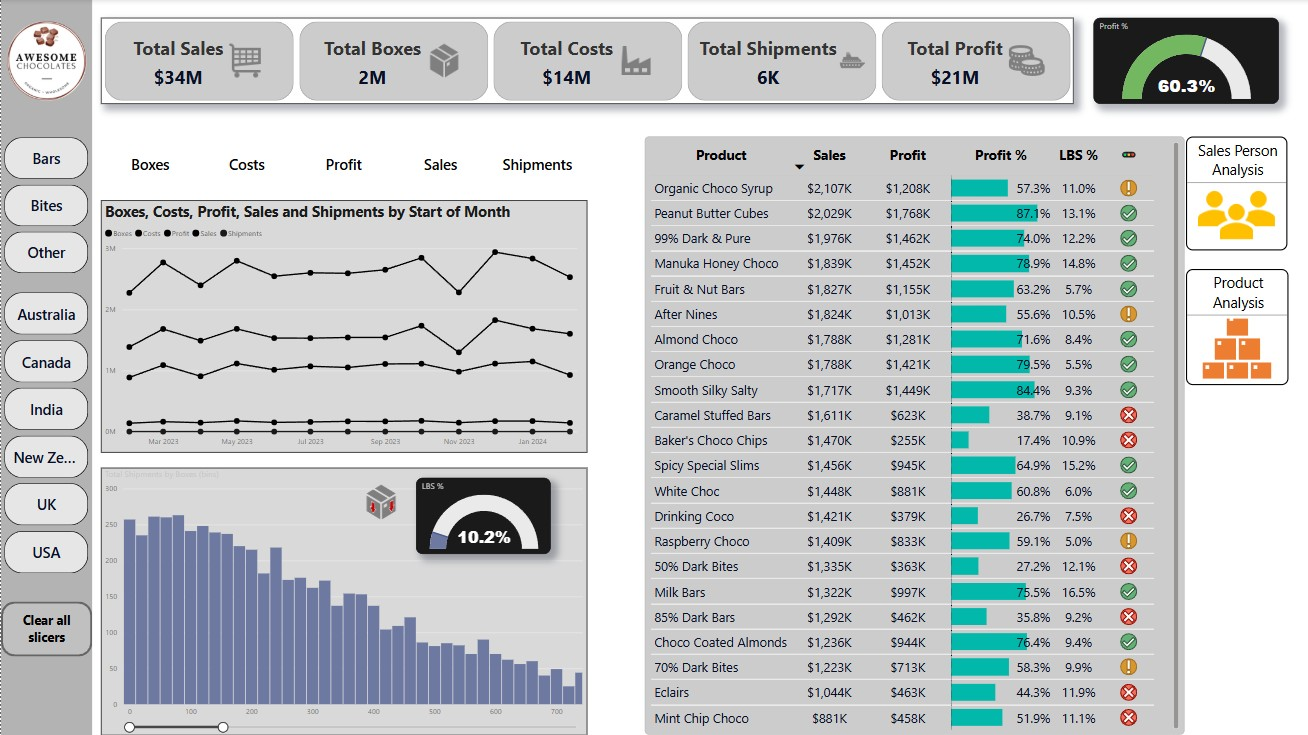

The page's visual inventory and layout, read from the dashboard file:
{"tool":"powerbi","page":{"name":"Sales Report","canvas":[1920,1080],"ordinal":1},"visuals":[{"type":"shape","box":[0,0,133.9,1080.4],"z":0},{"type":"cardVisual","fields":{"Data":["_Measures.Total Sales","_Measures.Total Boxes","_Measures.Total Costs","_Measures.Total Shipments","_Measures.Total Profit"]},"box":[146.7,27.5,1427,126.6],"z":1000},{"type":"gauge","fields":{"Y":["_Measures.Profit %"]},"box":[1602.5,27.4,271.6,126.3],"z":2000},{"type":"image","box":[0,27.5,133.9,126.6],"z":3000},{"type":"lineChart","fields":{"Y":["_Measures.Total Boxes","_Measures.Total Costs","_Measures.Total Profit","_Measures.Total Sales","_Measures.Total Shipments"],"Category":["calendar.Start of Month"]},"box":[146.7,295.3,713.5,370.5],"z":4000},{"type":"advancedSlicerVisual","fields":{"Values":["Measure Selector.Measure Selector"]},"box":[146.7,201.8,713.5,82.5],"z":5000},{"type":"columnChart","fields":{"Category":["shipments.Boxes (bins)"],"Y":["_Measures.Total Shipments"]},"box":[146.7,687.8,713.5,392.5],"z":6000},{"type":"gauge","fields":{"Y":["_Measures.LBS %"]},"box":[608.6,703.3,197.9,111.6],"z":7000},{"type":"image","box":[505.4,703.3,103.2,71.6],"z":8000},{"type":"tableEx","title":"Product details table","fields":{"Values":["products.Product","_Measures.Total Sales","_Measures.Total Profit","_Measures.Profit %","_Measures.LBS %","_Measures.Profit Target Indicator"]},"box":[945.5,202.6,792.2,877.9],"z":10000},{"type":"image","title":"Product Analysis","box":[1738.9,396.2,150.4,170.6],"z":11000},{"type":"image","title":"Sales Person Analysis","box":[1738.9,201.8,148.6,166.9],"z":12000},{"type":"advancedSlicerVisual","fields":{"Values":["products.Category"]},"box":[0,198.1,133.9,210.9],"z":13000},{"type":"advancedSlicerVisual","fields":{"Values":["locations.Geo"]},"box":[0,425.5,133.9,427.4],"z":14000},{"type":"actionButton","box":[0,884.1,133.9,80.7],"z":15000}]}

Visuals, with their boxes in screenshot pixels (x1, y1, x2, y2), scaled from the page's 1920x1080 canvas onto the 1308x735 screenshot:
shape: bbox=(0, 0, 91, 734)
cardVisual - _Measures.Total Sales x _Measures.Total Boxes: bbox=(100, 19, 1072, 105)
gauge - _Measures.Profit %: bbox=(1092, 19, 1277, 105)
image: bbox=(0, 19, 91, 105)
lineChart - _Measures.Total Boxes x _Measures.Total Costs: bbox=(100, 201, 586, 453)
advancedSlicerVisual - Measure Selector.Measure Selector: bbox=(100, 137, 586, 193)
columnChart - shipments.Boxes (bins) x _Measures.Total Shipments: bbox=(100, 468, 586, 734)
gauge - _Measures.LBS %: bbox=(415, 479, 549, 555)
image: bbox=(344, 479, 415, 527)
"Product details table" tableEx: bbox=(644, 138, 1184, 734)
"Product Analysis" image: bbox=(1185, 270, 1287, 386)
"Sales Person Analysis" image: bbox=(1185, 137, 1286, 251)
advancedSlicerVisual - products.Category: bbox=(0, 135, 91, 278)
advancedSlicerVisual - locations.Geo: bbox=(0, 290, 91, 580)
actionButton: bbox=(0, 602, 91, 657)
